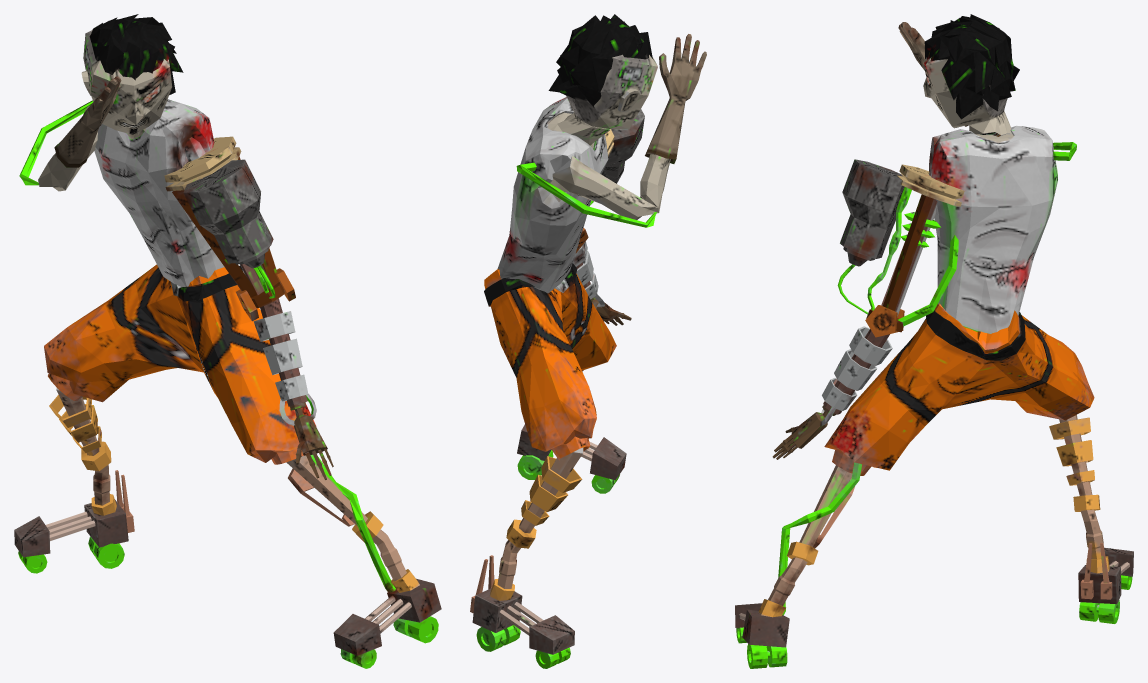
File: CyborgFINALAnimation_000000.obj
3 views of the same model, side by side, from view 1: azimuth 30°, elevation 25°; view 2: azimuth 150°, elevation 25°; view 3: azimuth 270°, elevation 25° (orthographic). The views are drawn at different scales.
Visible parts, largest first — view 1: CyborgMesh_Cube.002; view 2: CyborgMesh_Cube.002; view 3: CyborgMesh_Cube.002.
Boxes of the visible parts, x1,y1,x2,y2 form: CyborgMesh_Cube.002: (14,14,441,668); CyborgMesh_Cube.002: (470,14,706,668); CyborgMesh_Cube.002: (735,14,1133,668).
Size of the model in its own units: 4.09 by 8.69 by 5.42.
